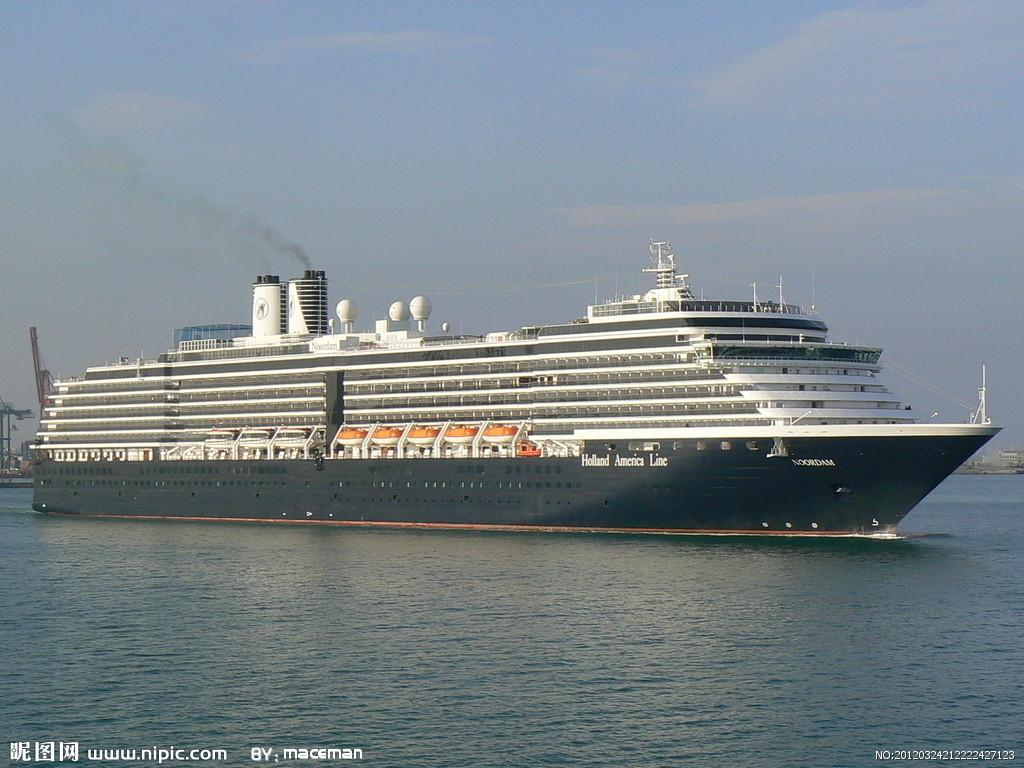youlun: (18, 241, 1019, 536)
